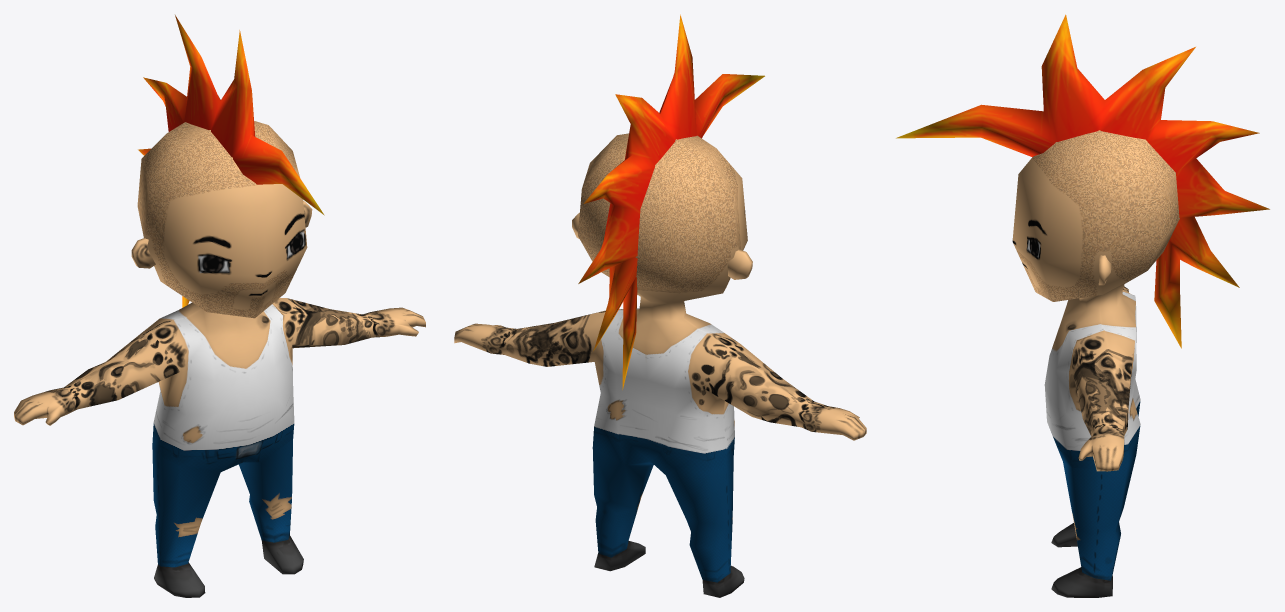
Rendered from mohawk.obj.
3 views of the same model, side by side, from view 1: azimuth 30°, elevation 25°; view 2: azimuth 150°, elevation 25°; view 3: azimuth 270°, elevation 25° (orthographic).
Parts seen in each view (by area): view 1: char_low-poly-1, cabelo-3_low-poly-punk; view 2: char_low-poly-1, cabelo-3_low-poly-punk; view 3: char_low-poly-1, cabelo-3_low-poly-punk.
Boxes of the visible parts, x1=… form: char_low-poly-1: x1=14, y1=121, x2=425, y2=597; cabelo-3_low-poly-punk: x1=138, y1=15, x2=324, y2=307; char_low-poly-1: x1=454, y1=133, x2=866, y2=597; cabelo-3_low-poly-punk: x1=578, y1=14, x2=764, y2=389; char_low-poly-1: x1=1012, y1=130, x2=1179, y2=597; cabelo-3_low-poly-punk: x1=896, y1=14, x2=1269, y2=348.
Size of the model in its own units: 4.91 by 6.35 by 3.91.
